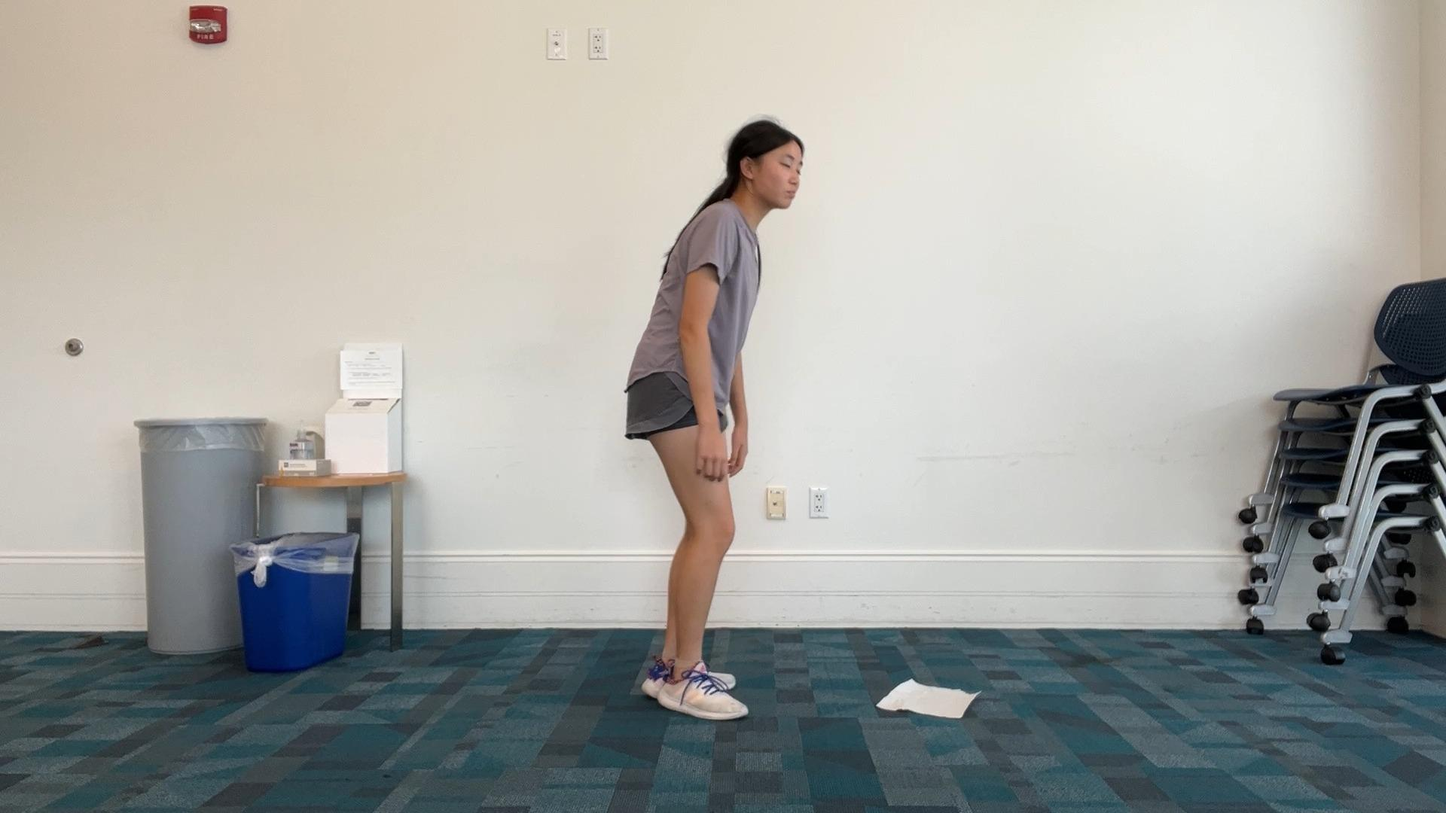Trash: (859, 661, 995, 736)
